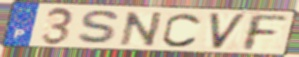3: (39, 6, 75, 47)
C: (160, 12, 204, 49)
F: (242, 13, 290, 52)
N: (118, 10, 166, 48)
S: (75, 9, 124, 47)
V: (207, 12, 249, 51)
